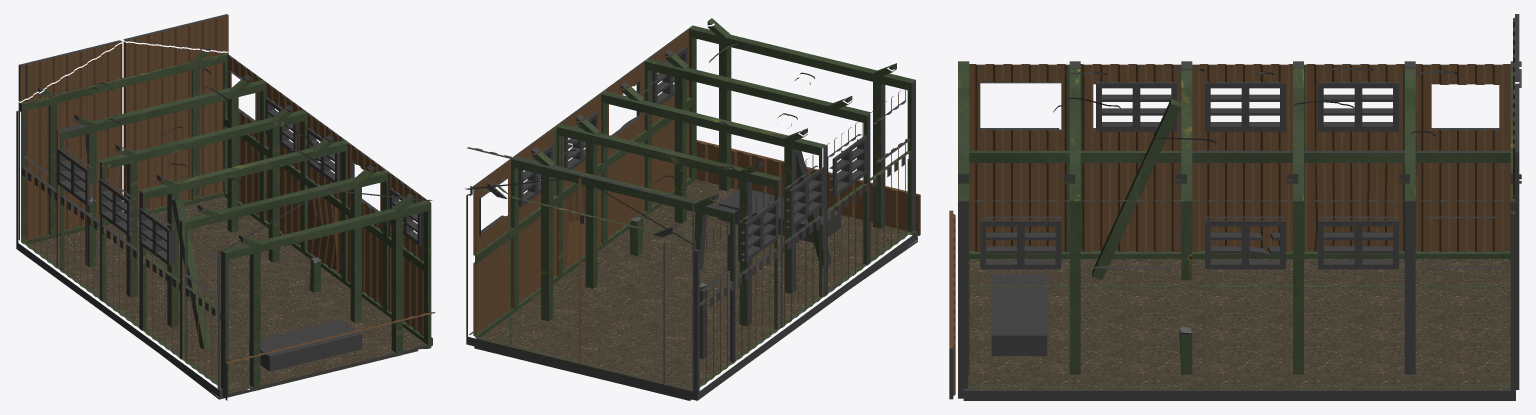
Rendered from Warehouse by Lavender Harmony - fsxbktzB1zo.glb.
3 views of the same model, side by side, from view 1: azimuth 30°, elevation 25°; view 2: azimuth 150°, elevation 25°; view 3: azimuth 270°, elevation 25° (orthographic). The views are drawn at different scales.
Parts seen in each view (by area): view 1: group_0_10988977.001, Plane; view 2: group_0_10988977.001, Plane; view 3: group_0_10988977.001, Plane.
Part boxes in pixels (x1,y1,x2,y2): group_0_10988977.001: [16, 14, 435, 400]; Plane: [26, 196, 427, 393]; group_0_10988977.001: [465, 18, 920, 400]; Plane: [478, 179, 908, 391]; group_0_10988977.001: [949, 14, 1521, 400]; Plane: [968, 259, 1510, 389].
Bounding box in the file's own units: 60.53 × 49.5 × 103.
Materials: 6 (3 with a texture image).
